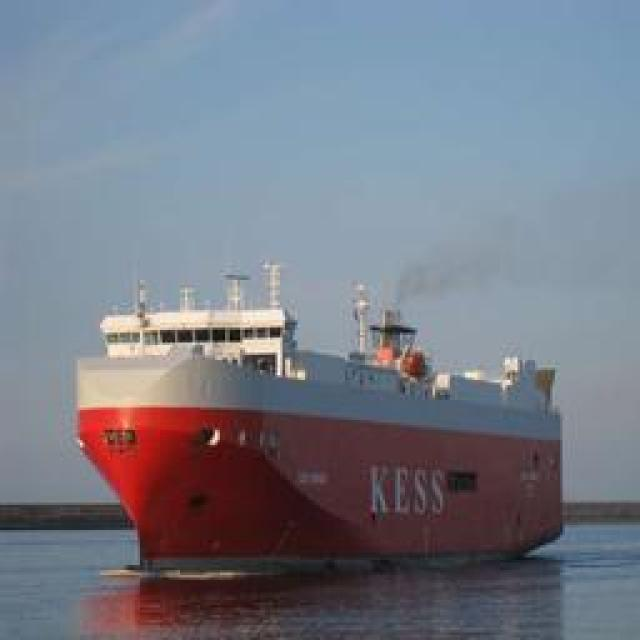CIV_Ship: (76, 262, 559, 580)
